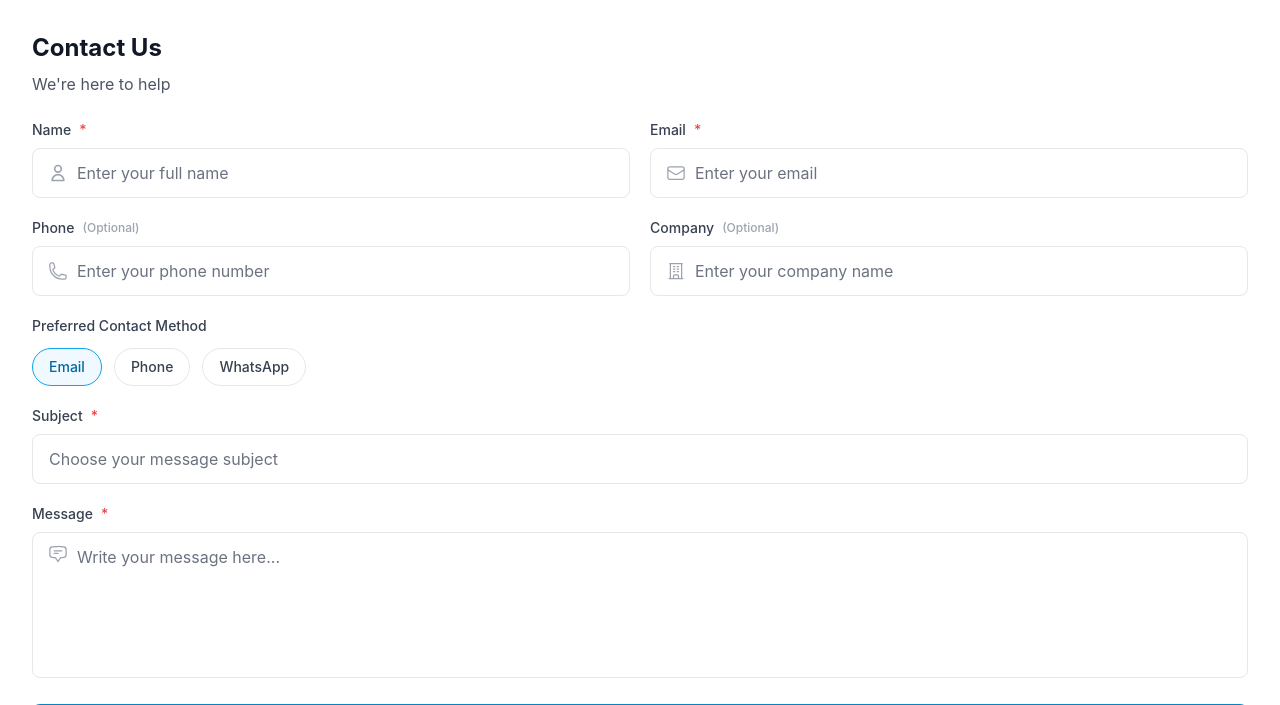
Test: ContactForm › Form Submission › should show error message when submission fails
In the field with placeholder "Enter your full name": (331, 173) x1=32 y1=148 x2=630 y2=198, type "John Doe"
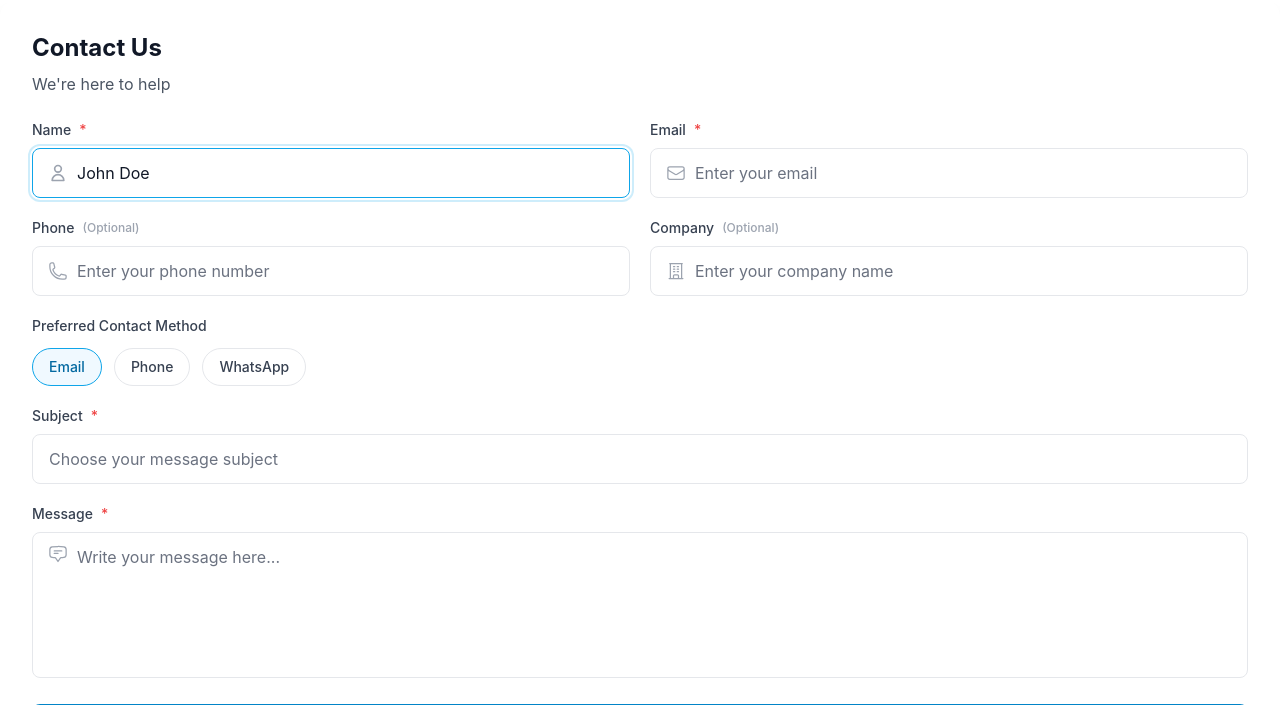
In the field with placeholder "Enter your email": (949, 173) x1=650 y1=148 x2=1248 y2=198, type "john@example.com"
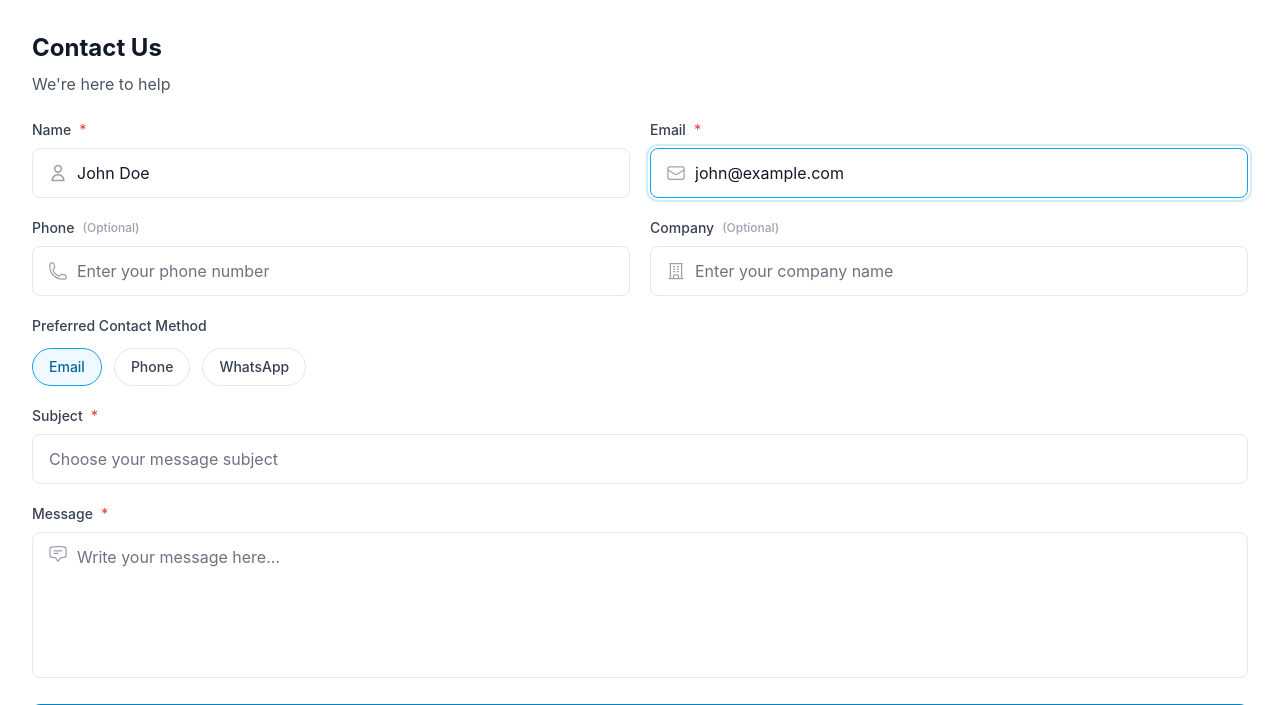
In the field with placeholder "Choose your message subject": (640, 459) x1=32 y1=434 x2=1248 y2=484, type "Hello there"
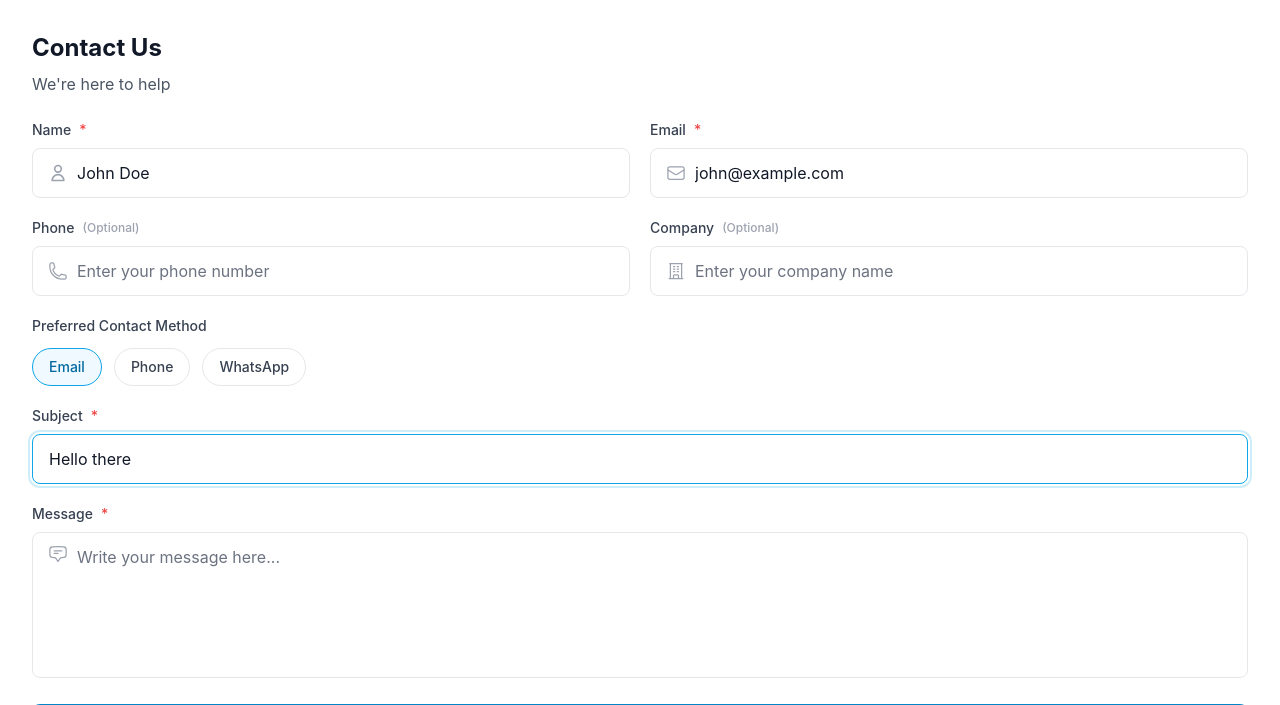
In the text box with placeholder "Write your message here...": (640, 605) x1=32 y1=532 x2=1248 y2=678, type "This is a test message for testing purposes."
(page scrolled)
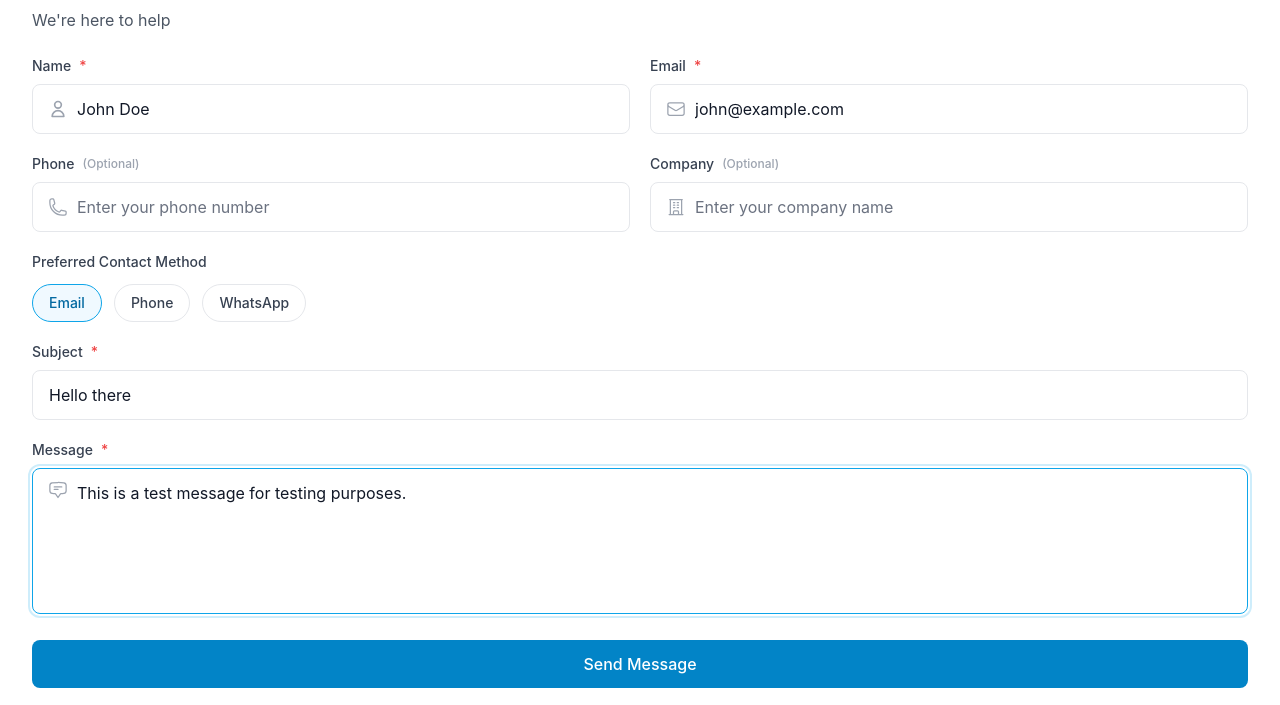
Click the button "Send Message": click(640, 664) x1=32 y1=640 x2=1248 y2=688
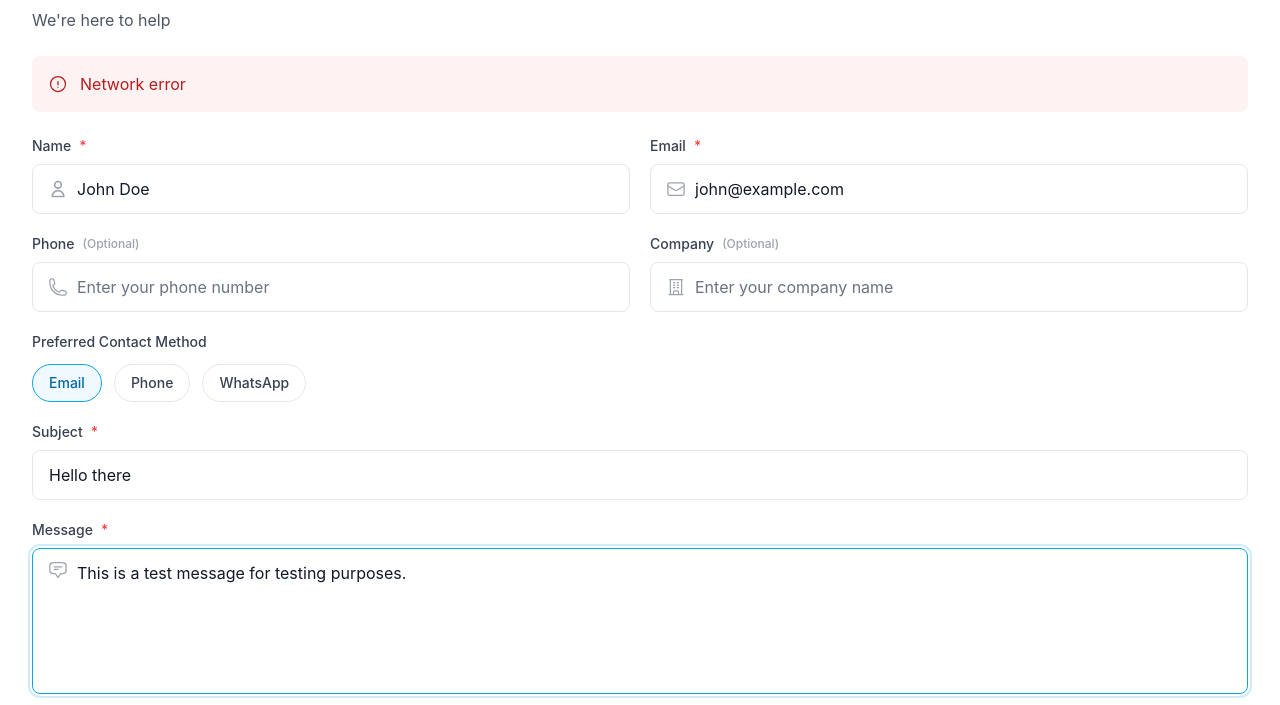
expect the text "Network error" is shown: met, box x1=80 y1=72 x2=186 y2=96
